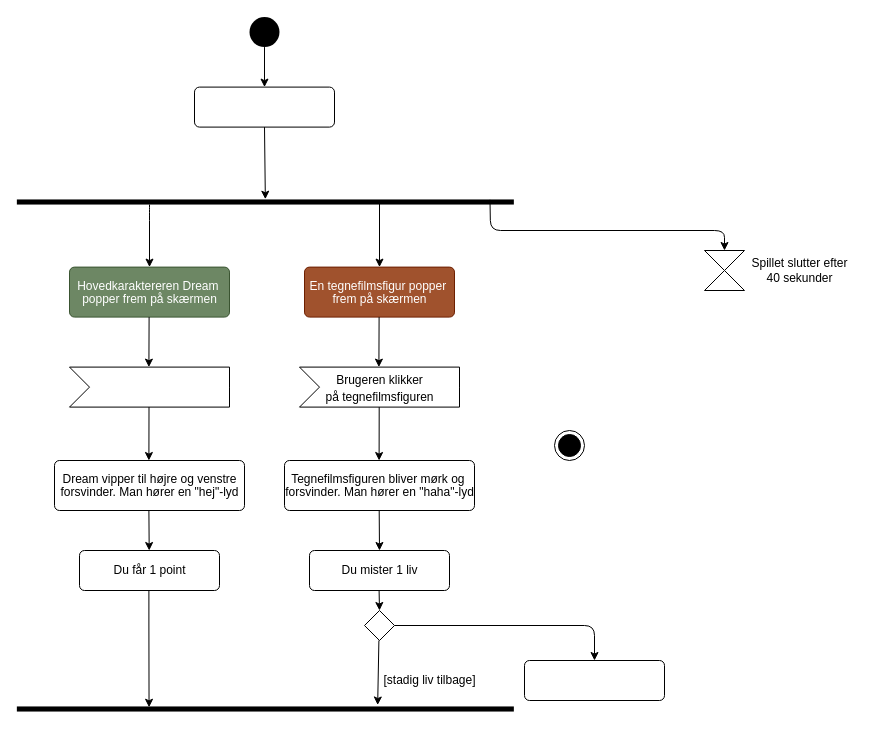
Image size: 872x733. Some labels were removed from this diagram. The shapes that lost their labels are listed below. From the top down, each one's box as (x1, y1, x2, y2) in pixels, then its label:
(194, 86, 334, 127): Baggrundsmusik starter
(68, 366, 230, 407): Brugeren klikker på Dream
(524, 660, 664, 700): Game over
